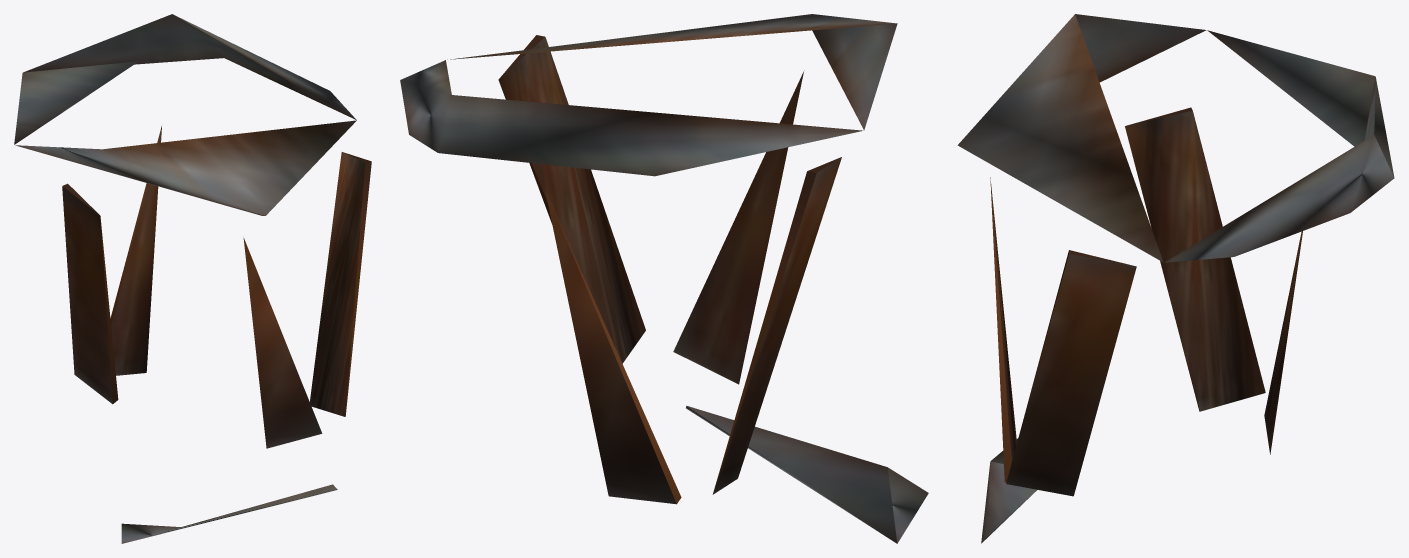
3 views of the same model, side by side, from view 1: azimuth 30°, elevation 25°; view 2: azimuth 150°, elevation 25°; view 3: azimuth 270°, elevation 25° (orthographic). The views are drawn at different scales.
Visible parts, largest first — view 1: barrelbroken; view 2: barrelbroken; view 3: barrelbroken.
Boxes of the visible parts, x1,y1,x2,y2 form: barrelbroken: [14, 14, 371, 543]; barrelbroken: [400, 14, 928, 543]; barrelbroken: [957, 14, 1394, 543].
Size of the model in its own units: 0.6424 by 0.7305 by 0.6353.
1 material, 1 textured.
